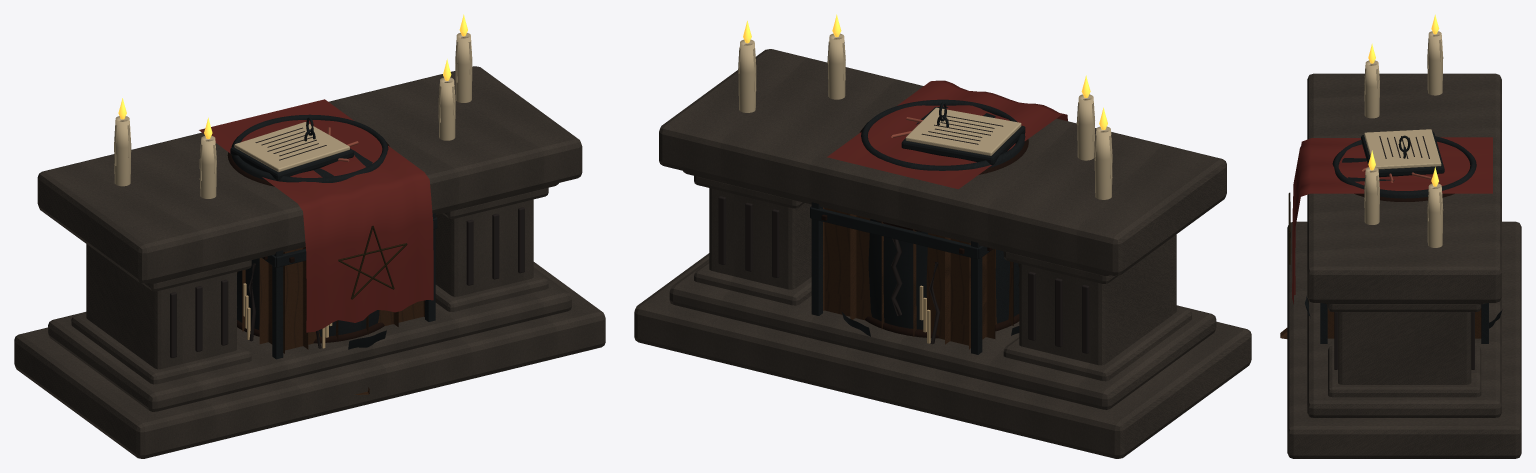
The model's file is props.glb.
3 renders of one model, left to right at view 1: azimuth 30°, elevation 25°; view 2: azimuth 150°, elevation 25°; view 3: azimuth 270°, elevation 25°, orthographic. The views are drawn at different scales.
Parts seen in each view (by area): view 1: altar_intact_Sacrificial basalt, altar_intact_Dried oxblood altar runner, altar_intact_Tallow, crate_intact_Split smoked oak, barrel_intact_Oxidized forged iron, altar_intact_Fracture cavity, crate_intact_Oxidized forged iron, altar_intact_Oxidized forged iron, barrel_intact_Ferric crust, altar_intact_Worn funerary bronze; view 2: altar_intact_Sacrificial basalt, crate_intact_Split smoked oak, altar_intact_Tallow, altar_intact_Dried oxblood altar runner, barrel_intact_Oxidized forged iron, crate_intact_Oxidized forged iron, altar_intact_Fracture cavity, altar_intact_Oxidized forged iron, barrel_intact_Ferric crust; view 3: altar_intact_Sacrificial basalt, altar_intact_Dried oxblood altar runner, altar_intact_Tallow, barrel_intact_Oxidized forged iron, altar_intact_Oxidized forged iron, altar_intact_Fracture cavity, crate_intact_Oxidized forged iron, crate_intact_Split smoked oak, altar_intact_Lantern wick light, barrel_intact_Ferric crust.
Part boxes in pixels (bbox=[...]): altar_intact_Sacrificial basalt: bbox=[14, 66, 605, 458]; altar_intact_Dried oxblood altar runner: bbox=[199, 99, 433, 332]; altar_intact_Tallow: bbox=[114, 33, 472, 198]; crate_intact_Split smoked oak: bbox=[242, 247, 424, 353]; barrel_intact_Oxidized forged iron: bbox=[231, 114, 388, 336]; altar_intact_Fracture cavity: bbox=[170, 127, 524, 357]; crate_intact_Oxidized forged iron: bbox=[262, 213, 437, 359]; altar_intact_Oxidized forged iron: bbox=[230, 147, 353, 180]; barrel_intact_Ferric crust: bbox=[227, 142, 389, 343]; altar_intact_Worn funerary bronze: bbox=[338, 226, 407, 299]; altar_intact_Sacrificial basalt: bbox=[634, 49, 1251, 458]; crate_intact_Split smoked oak: bbox=[823, 207, 1013, 349]; altar_intact_Tallow: bbox=[738, 33, 1112, 199]; altar_intact_Dried oxblood altar runner: bbox=[827, 80, 1067, 189]; barrel_intact_Oxidized forged iron: bbox=[861, 99, 1025, 329]; crate_intact_Oxidized forged iron: bbox=[810, 202, 992, 354]; altar_intact_Fracture cavity: bbox=[718, 115, 1089, 353]; altar_intact_Oxidized forged iron: bbox=[901, 125, 1025, 164]; barrel_intact_Ferric crust: bbox=[860, 128, 1028, 338]; altar_intact_Sacrificial basalt: bbox=[1287, 73, 1521, 458]; altar_intact_Dried oxblood altar runner: bbox=[1292, 137, 1492, 304]; altar_intact_Tallow: bbox=[1364, 31, 1443, 247]; barrel_intact_Oxidized forged iron: bbox=[1332, 136, 1476, 198]; altar_intact_Oxidized forged iron: bbox=[1361, 131, 1444, 177]; altar_intact_Fracture cavity: bbox=[1334, 136, 1474, 369]; crate_intact_Oxidized forged iron: bbox=[1320, 303, 1488, 343]; crate_intact_Split smoked oak: bbox=[1327, 304, 1481, 338]; altar_intact_Lantern wick light: bbox=[1368, 14, 1439, 186]; barrel_intact_Ferric crust: bbox=[1354, 193, 1454, 201].
Bounding box in the file's own units: 2.75 × 1.63 × 1.34.
Materials: 12 (6 with a texture image).
